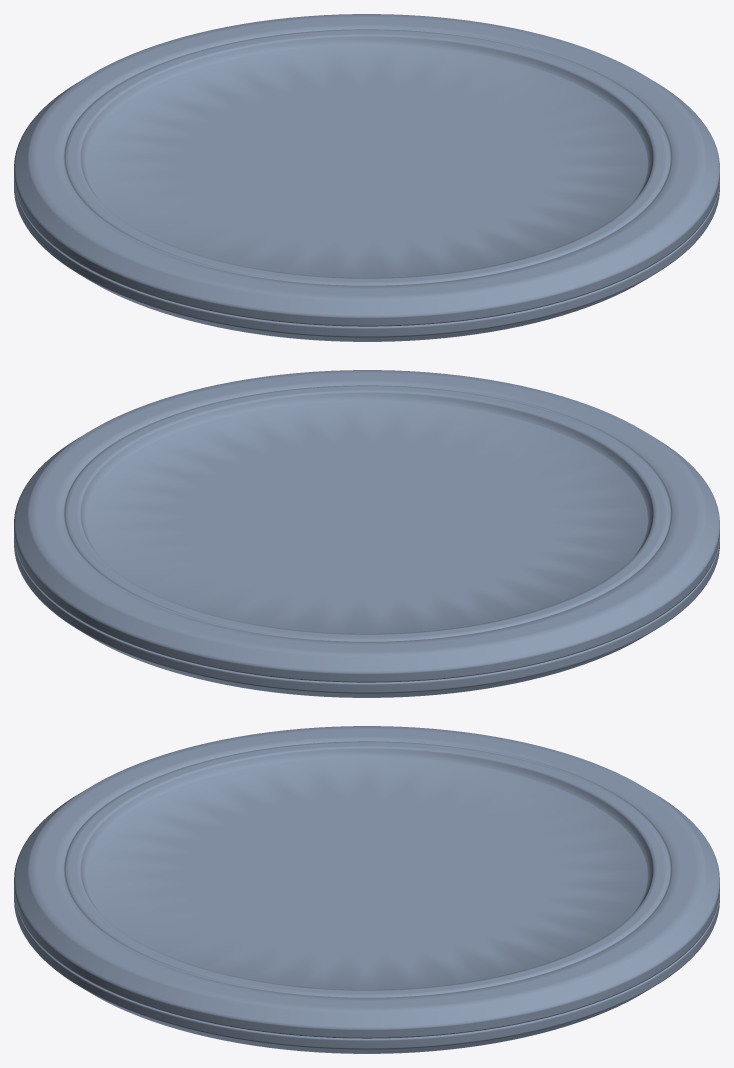
The model's file is Mesa.obj.
3 renders of one model, top to bottom at view 1: azimuth 30°, elevation 25°; view 2: azimuth 150°, elevation 25°; view 3: azimuth 270°, elevation 25°, orthographic.
Parts seen in each view (by area): view 1: Mesa_Cylinder; view 2: Mesa_Cylinder; view 3: Mesa_Cylinder.
Boxes of the visible parts, box(x1,y1,x2,y2) form: Mesa_Cylinder: box(14, 14, 719, 341); Mesa_Cylinder: box(14, 370, 719, 697); Mesa_Cylinder: box(14, 726, 719, 1053).
Bounding box in the file's own units: 2.45 × 0.3978 × 2.45.
